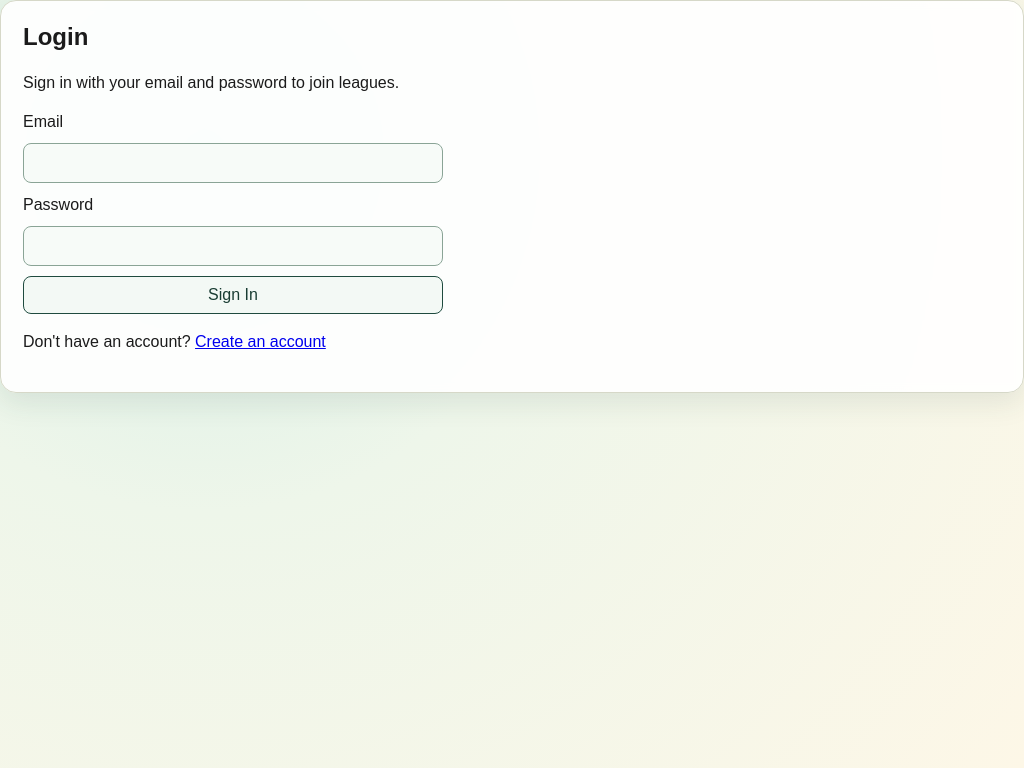
Test: LoginPage › shows validation error when fields are blank
This screenshot has width=1024, height=768.
Step 1. Click the button "Sign In" → [233, 296], box top-left (23, 276), bottom-right (443, 314)
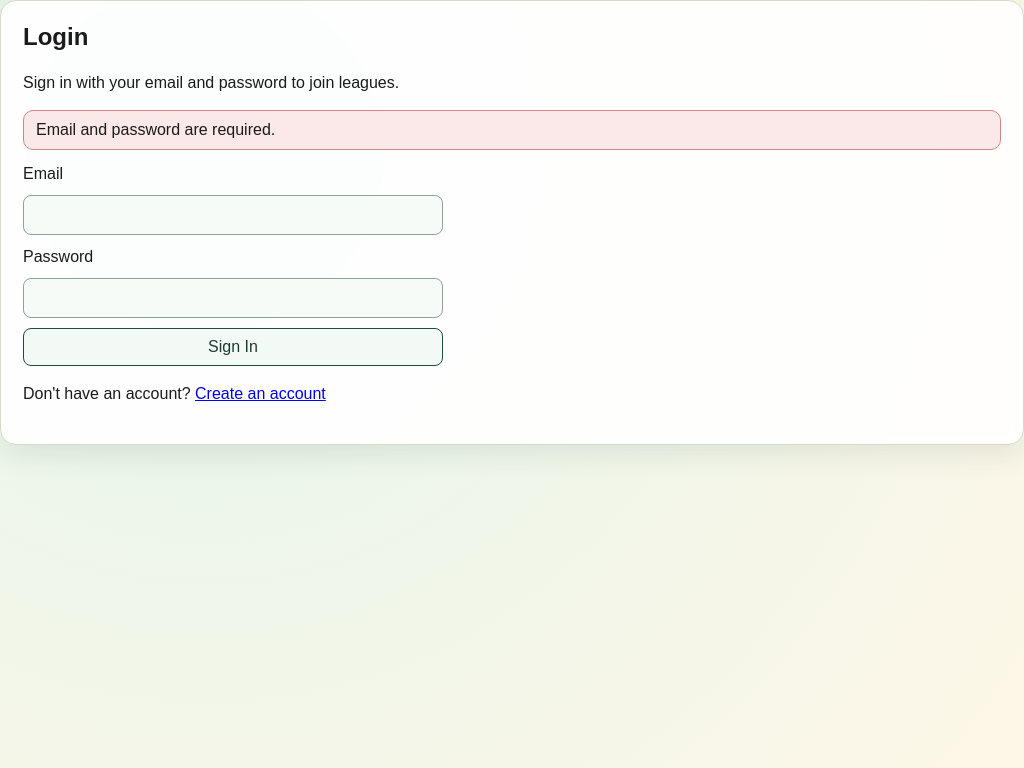
Expected: the text "Email and password are required." is shown, top-left (23, 110), bottom-right (1001, 150)
